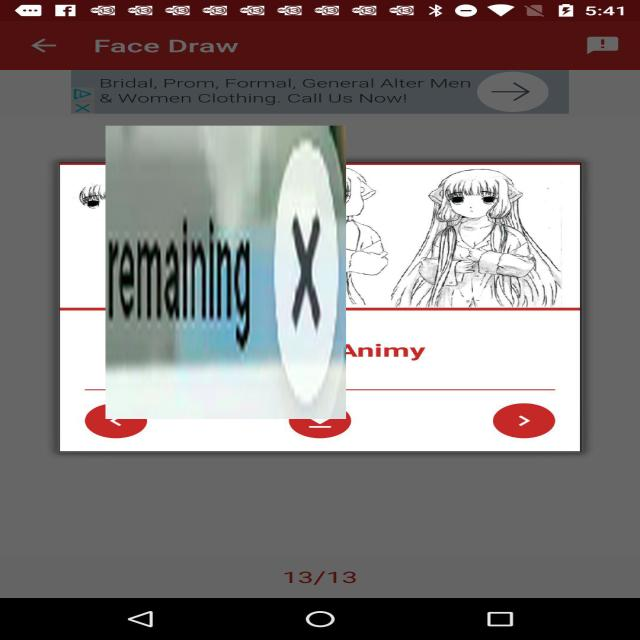misdirection: (106, 126, 346, 419)
